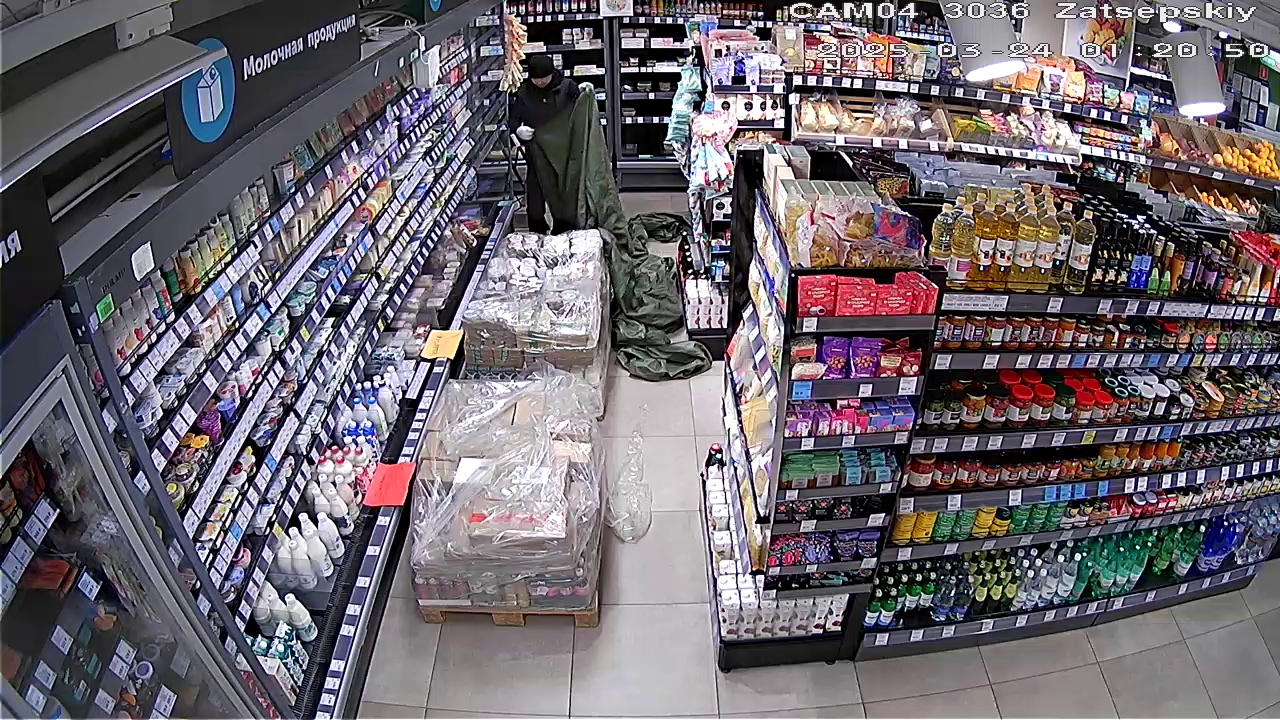Human: (495, 52, 583, 228)
pallet: (400, 376, 615, 627), (456, 230, 609, 383)
